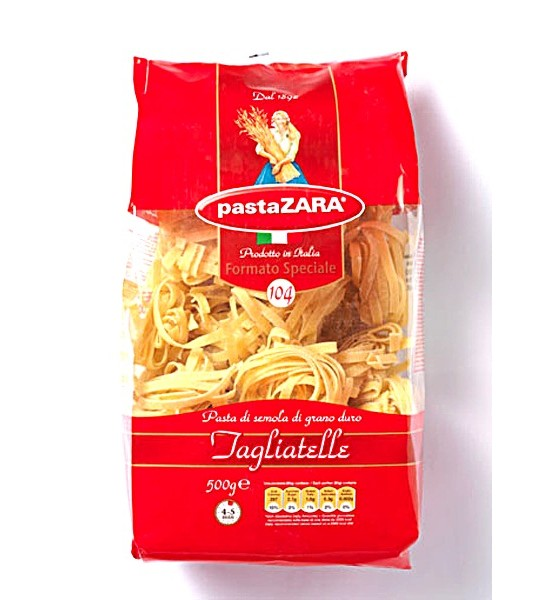plain spaghetti: (155, 294, 416, 387)
